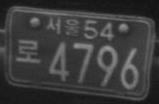4: (47, 39, 70, 83), (99, 21, 115, 43)
5: (81, 17, 99, 40)
6: (119, 46, 141, 91)
7: (72, 41, 95, 84)
9: (96, 44, 119, 88)
로: (13, 38, 43, 64)
서울_O: (45, 14, 80, 38)
